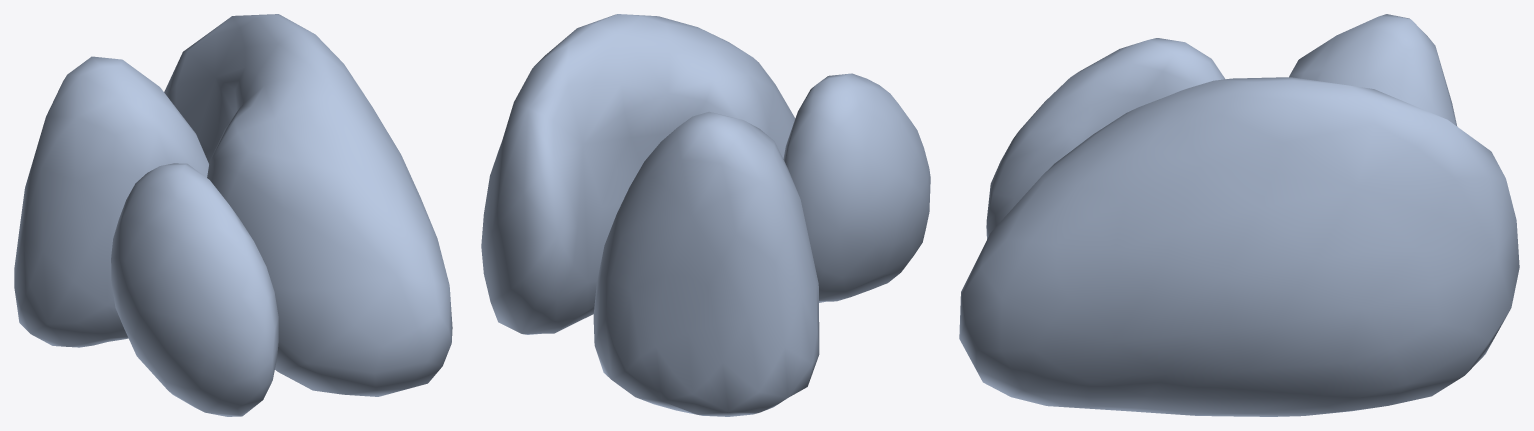
The picture shows the model from 3 angles, left to right: view 1: azimuth 30°, elevation 25°; view 2: azimuth 150°, elevation 25°; view 3: azimuth 270°, elevation 25°; orthographic projection. The views are drawn at different scales.
Parts seen in each view (by area): view 1: 右侧筛骨后群小房; view 2: 右侧筛骨后群小房; view 3: 右侧筛骨后群小房.
Part boxes in pixels (<box>): 右侧筛骨后群小房: <box>14,14,452,416</box>; 右侧筛骨后群小房: <box>481,14,930,416</box>; 右侧筛骨后群小房: <box>959,14,1519,416</box>.
Bounding box in the file's own units: 0.0141 × 0.0124 × 0.0181.
